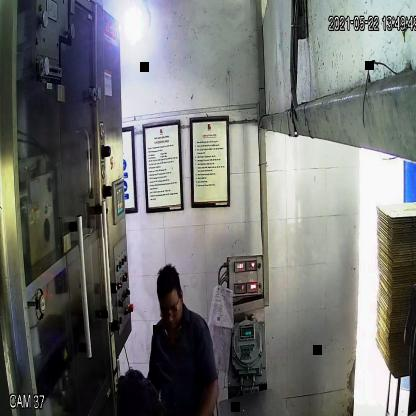goggles: (156, 301, 185, 321)
